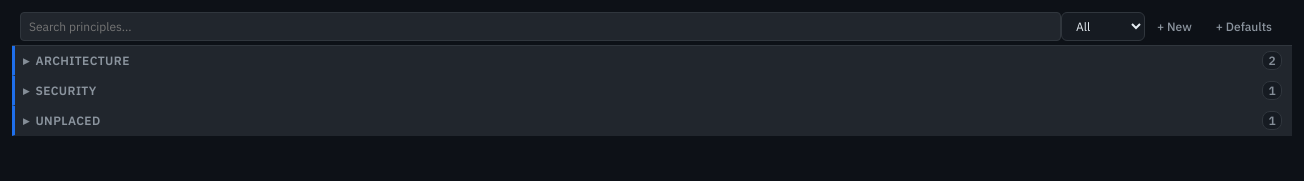
principles tree (PRN-03) › counts include the unplaced group
Step 1. Click the button "▸ Unplaced 1" → {"x": 68, "y": 120}, box [12, 106, 1292, 136]
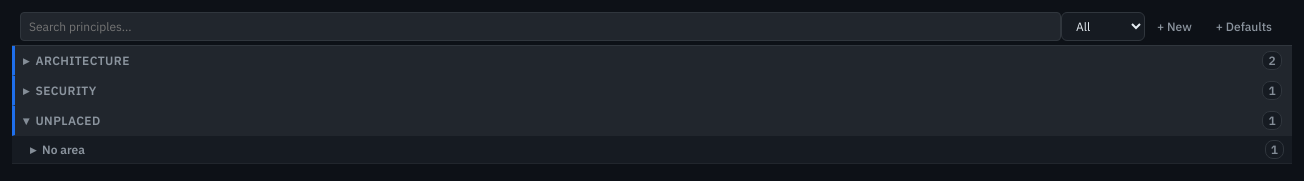
Result: the button "▸ No area 1" is shown at [26, 136, 1292, 163]
